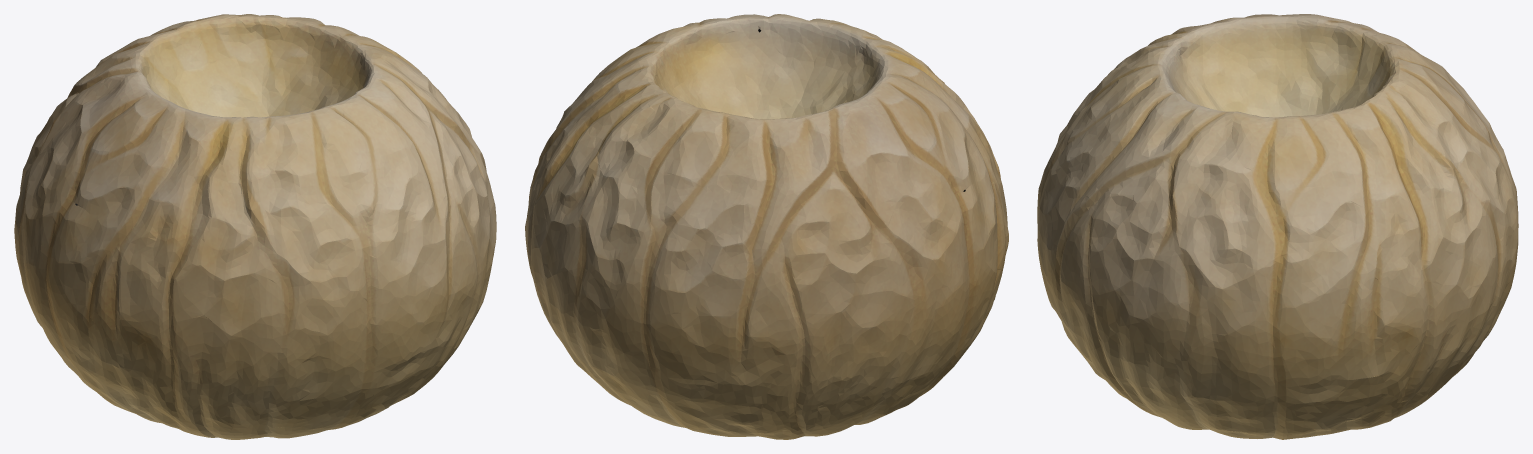
3 views of the same model, side by side, from view 1: azimuth 30°, elevation 25°; view 2: azimuth 150°, elevation 25°; view 3: azimuth 270°, elevation 25° (orthographic).
Visible parts, largest first — view 1: world; view 2: world; view 3: world.
Part boxes in pixels (left/top/right/bottom): world: left=14, top=14, right=496, bottom=439; world: left=525, top=14, right=1008, bottom=439; world: left=1037, top=14, right=1518, bottom=439.
Size of the model in its own units: 0.045 by 0.0328 by 0.045.
Materials: 1 (1 with a texture image).
